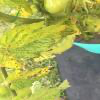Tomato Septoria leaf spot: (1, 22, 77, 69)
